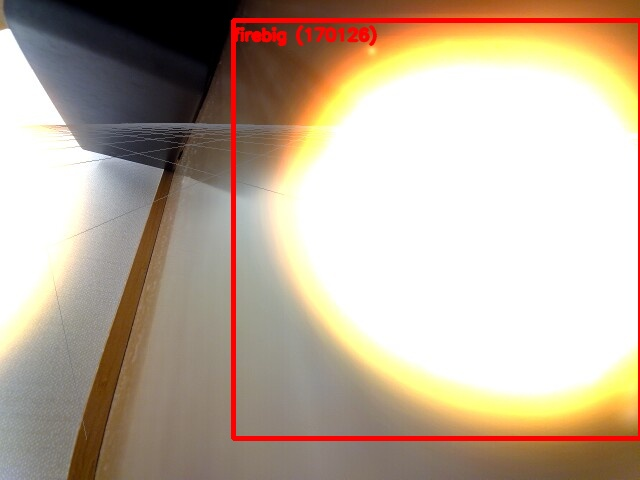firebig: (233, 20, 640, 438)
